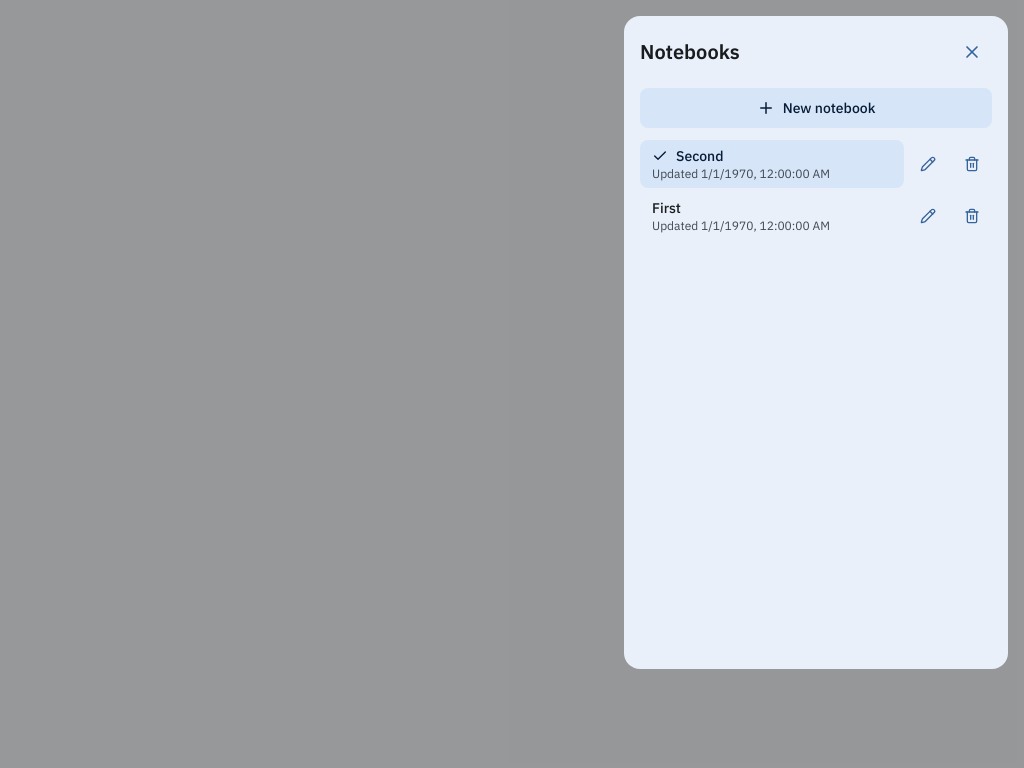
NotebookSwitcher › renames a notebook inline
The image size is (1024, 768).
Click the button named "Rename Second": {"x": 928, "y": 164} [908,144,948,184]
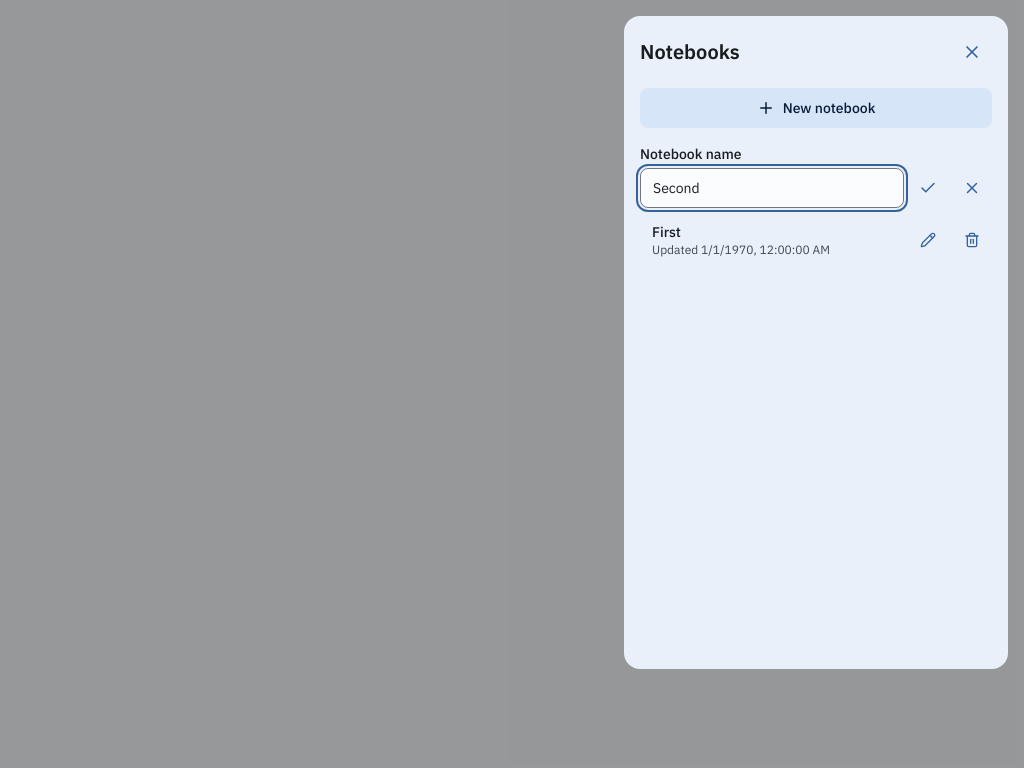
Check: the field labelled "Notebook name" holds "Second"
Replace the text in the field labelled "Notebook name" with "Renamed": {"x": 772, "y": 188} [640,168,904,208]
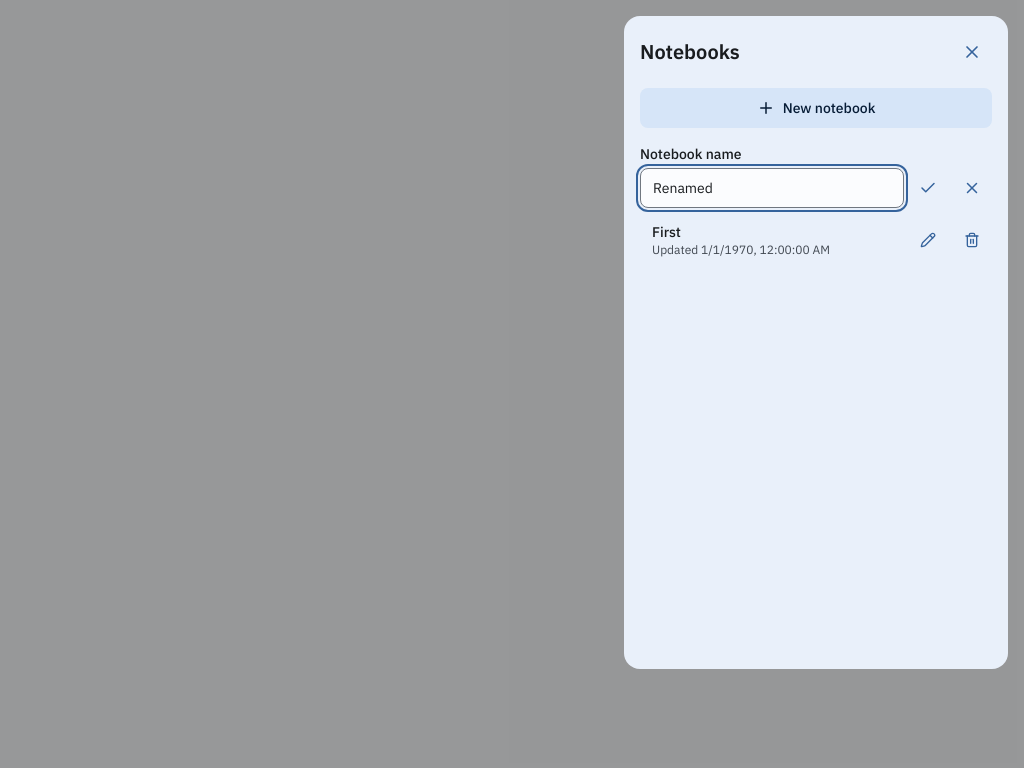
Click the button named "Save name": {"x": 928, "y": 188} [908,168,948,208]
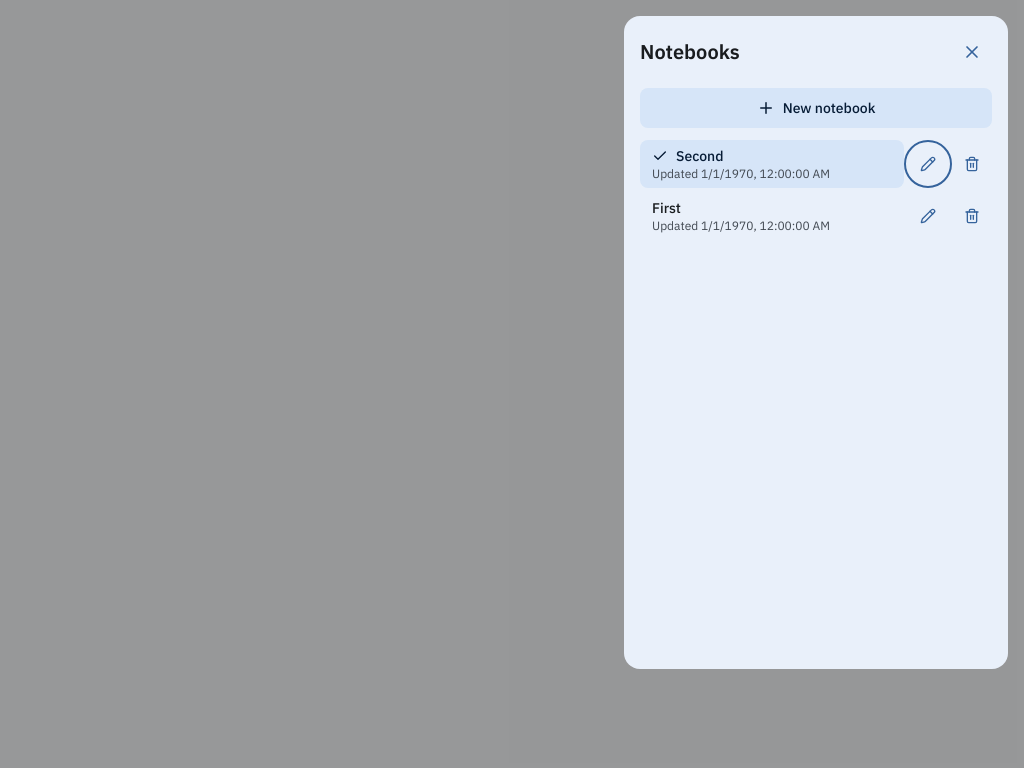
Check: the label labelled "Notebook name" is gone
